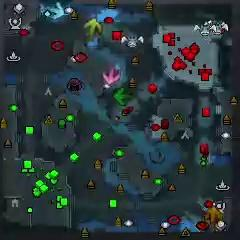x1: (102, 65, 120, 84)
x2: (84, 18, 102, 36)
x3: (50, 2, 65, 20)
x4: (113, 88, 133, 105)
x5: (205, 207, 222, 223)
